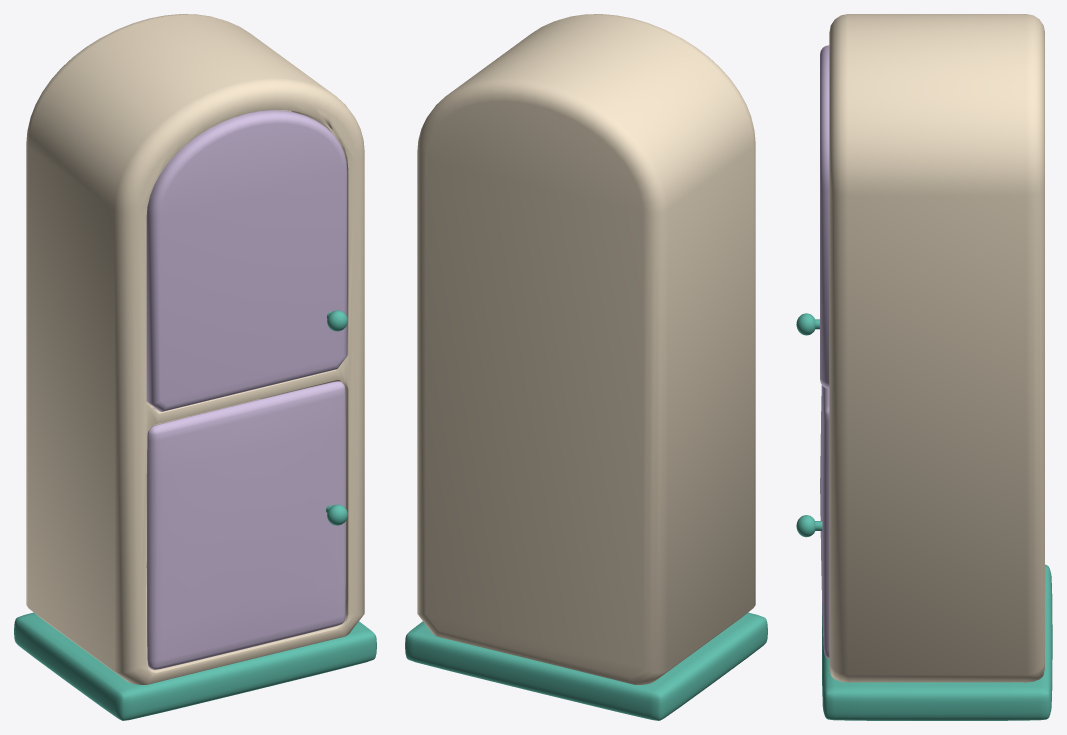
File: pantry_c.glb
3 views of the same model, side by side, from view 1: azimuth 30°, elevation 25°; view 2: azimuth 150°, elevation 25°; view 3: azimuth 270°, elevation 25° (orthographic). The views are drawn at different scales.
Parts seen in each view (by area): view 1: body, door_top, door; view 2: body; view 3: body, door_top, door.
Boxes of the visible parts, <box> form: body: <box>14,14,376,720</box>; door_top: <box>146,110,347,411</box>; door: <box>147,381,347,669</box>; body: <box>405,14,767,720</box>; body: <box>822,14,1052,720</box>; door_top: <box>796,45,829,388</box>; door: <box>796,385,829,658</box>.
Bounding box in the file's own units: 0.84 × 1.86 × 0.6885.
